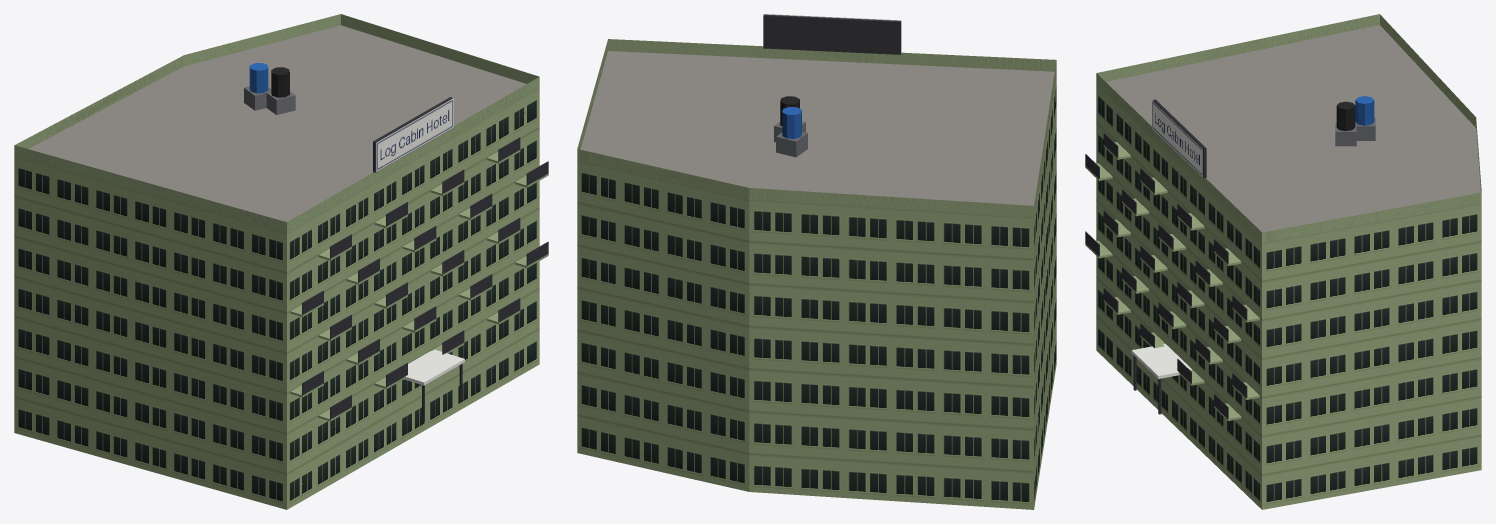
Rendered from hotels-27362-14868.e13ef541.glb.
The picture shows the model from 3 angles, left to right: view 1: azimuth 30°, elevation 25°; view 2: azimuth 150°, elevation 25°; view 3: azimuth 270°, elevation 25°; orthographic projection. The views are drawn at different scales.
Size of the model in its own units: 38.74 by 25.28 by 29.68.
4 materials, 2 textured.
